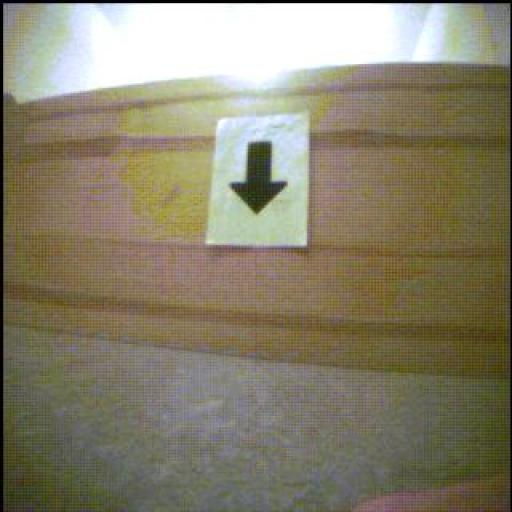arrow: (232, 142, 288, 215)
